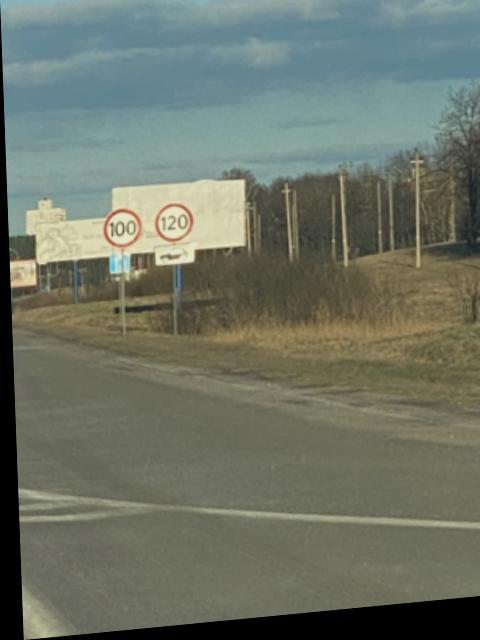limit100: (100, 208, 142, 251)
limit120: (154, 201, 191, 246)
